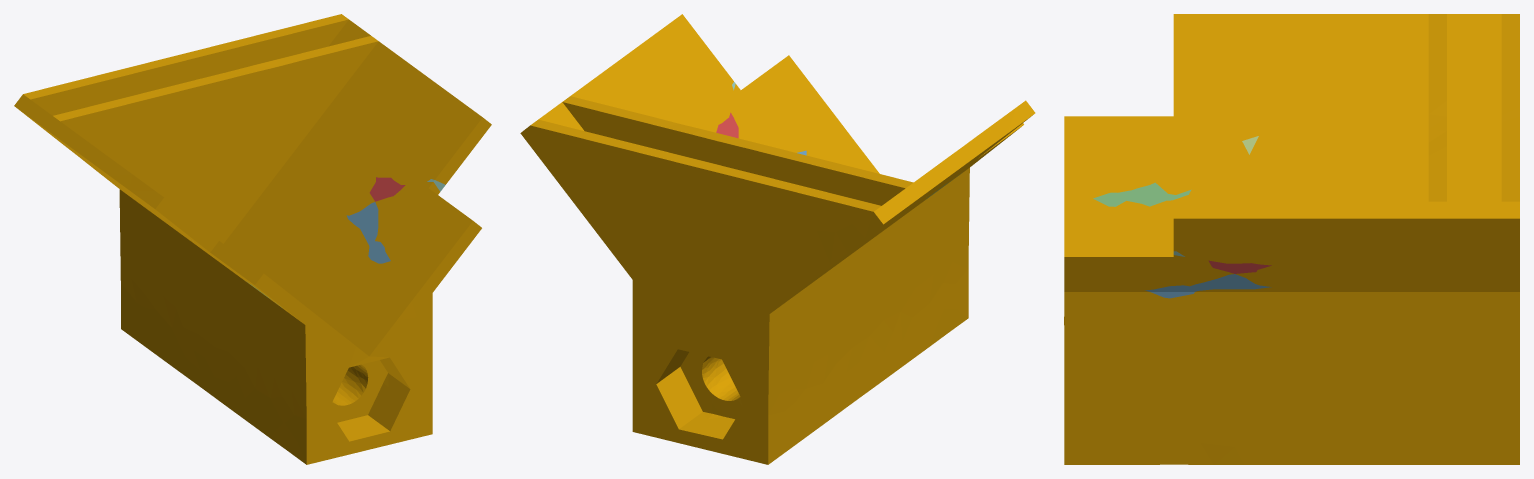
File: fractured_30_6pcs.glb
3 renders of one model, left to right at view 1: azimuth 30°, elevation 25°; view 2: azimuth 150°, elevation 25°; view 3: azimuth 270°, elevation 25°, orthographic. The views are drawn at different scales.
Visible parts, largest first — view 1: piece_0.obj, piece_2.obj, piece_1.obj; view 2: piece_0.obj; view 3: piece_0.obj, piece_2.obj, piece_3.obj, piece_1.obj.
Boxes of the visible parts, left/top/right/bottom form: piece_0.obj: left=14, top=14, right=491, bottom=464; piece_2.obj: left=346, top=202, right=390, bottom=263; piece_1.obj: left=369, top=177, right=405, bottom=201; piece_0.obj: left=520, top=14, right=1035, bottom=464; piece_0.obj: left=1064, top=14, right=1519, bottom=464; piece_2.obj: left=1145, top=274, right=1271, bottom=298; piece_3.obj: left=1093, top=182, right=1191, bottom=206; piece_1.obj: left=1208, top=260, right=1271, bottom=273.
Size of the model in its own units: 1 by 0.7409 by 0.9562.
